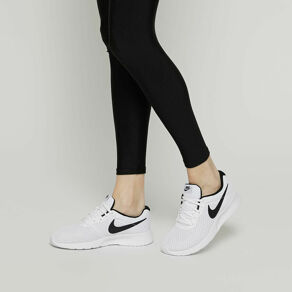nike: (205, 183, 229, 221), (106, 221, 141, 236)
